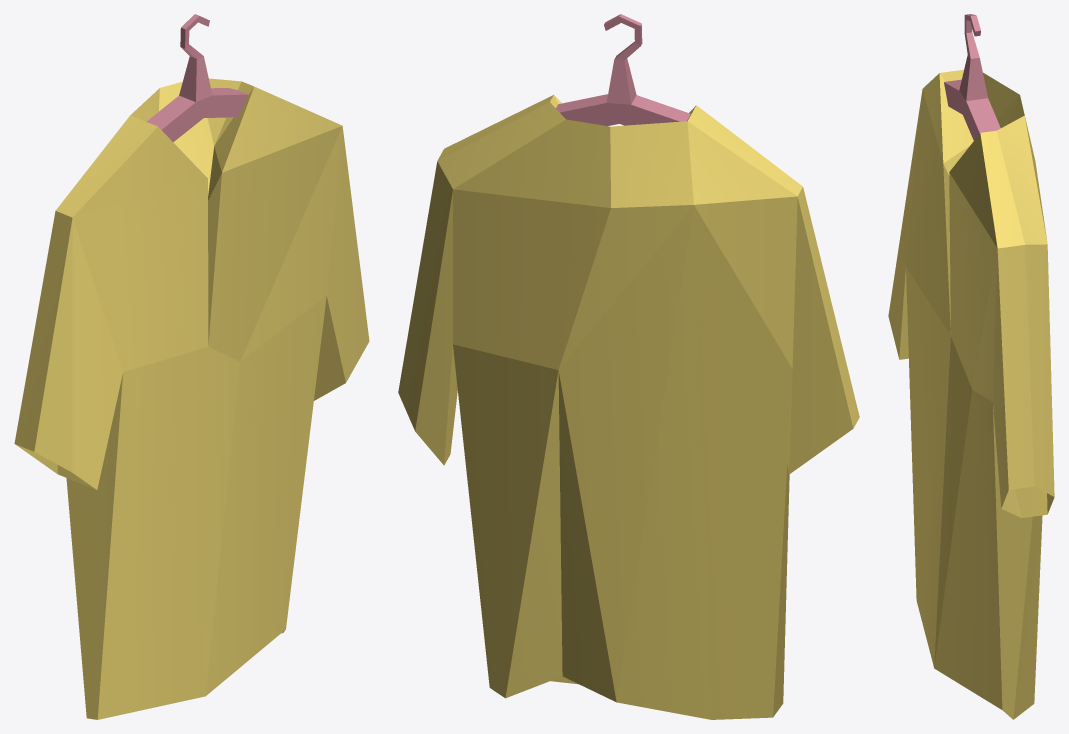
The model's file is Laundry_clother2.fbx.
The picture shows the model from 3 angles, left to right: view 1: azimuth 30°, elevation 25°; view 2: azimuth 150°, elevation 25°; view 3: azimuth 270°, elevation 25°; orthographic projection. The views are drawn at different scales.
Parts seen in each view (by area): view 1: Laundry_clother2; view 2: Laundry_clother2; view 3: Laundry_clother2.
Part boxes in pixels (bbox=[...]): Laundry_clother2: bbox=[14, 14, 369, 719]; Laundry_clother2: bbox=[398, 14, 859, 719]; Laundry_clother2: bbox=[888, 14, 1054, 719].
Size of the model in its own units: 65.33 by 106 by 24.1.
